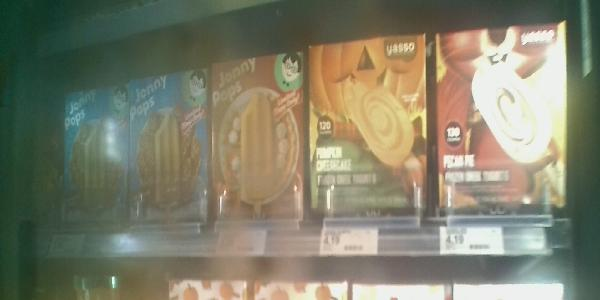icecream: (433, 26, 577, 216), (309, 42, 434, 238), (208, 56, 312, 232), (50, 75, 136, 237), (131, 73, 214, 238)
